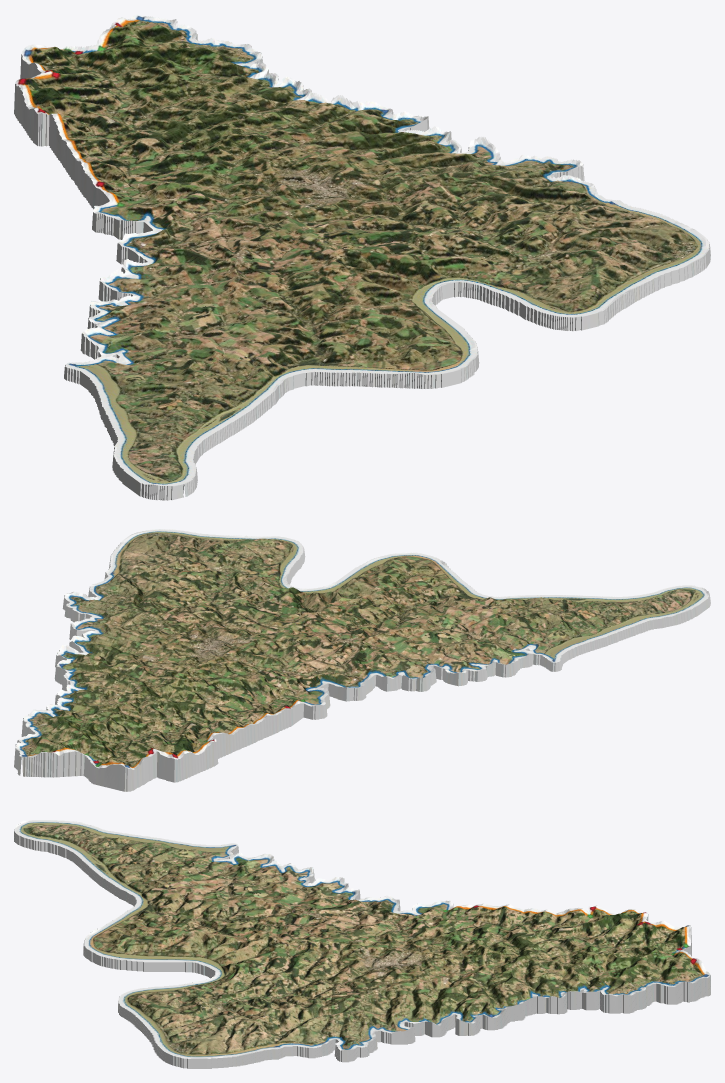
3 renders of one model, top to bottom at view 1: azimuth 30°, elevation 25°; view 2: azimuth 150°, elevation 25°; view 3: azimuth 270°, elevation 25°, orthographic. The views are drawn at different scales.
Size of the model in its own units: 0.9998 by 0.0521 by 1.23.
Materials: 1 (1 with a texture image).
